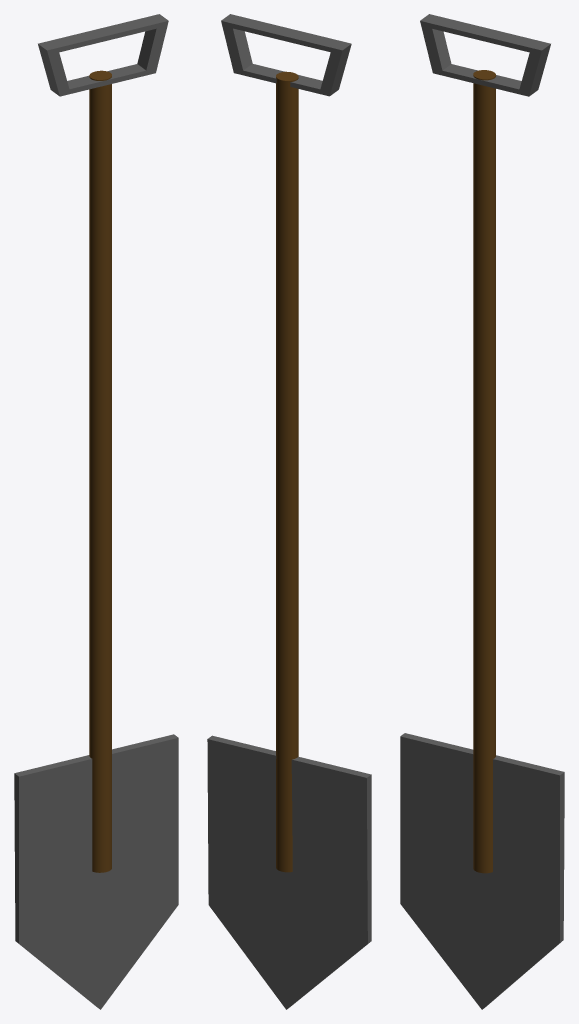
File: shovel.fbx
3 renders of one model, left to right at view 1: azimuth 30°, elevation 25°; view 2: azimuth 150°, elevation 25°; view 3: azimuth 330°, elevation 25°, orthographic.
Visible parts, largest first — view 1: shovel:pCube48polySurface3; view 2: shovel:pCube48polySurface3; view 3: shovel:pCube48polySurface3.
Part boxes in pixels (x1=…): shovel:pCube48polySurface3: x1=14, y1=14, x2=178, y2=1009; shovel:pCube48polySurface3: x1=207, y1=14, x2=371, y2=1009; shovel:pCube48polySurface3: x1=400, y1=14, x2=564, y2=1009.
Bounding box in the file's own units: 34.79 × 203 × 4.09.
